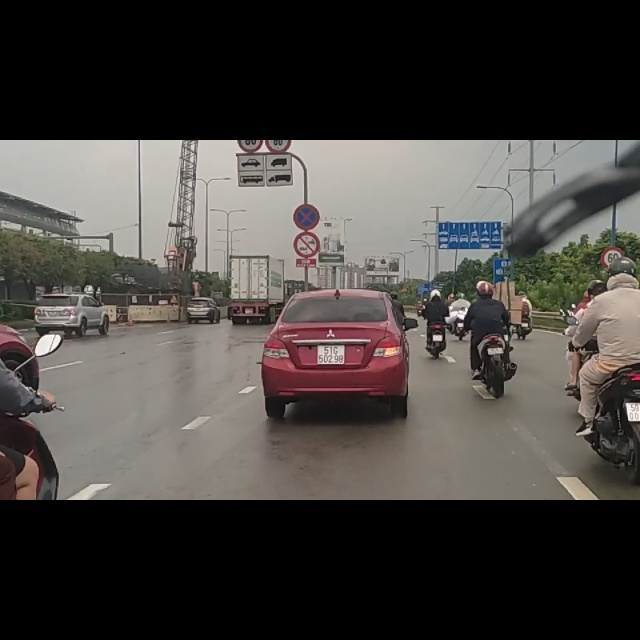bien_chi_dan: (293, 113, 320, 159)
